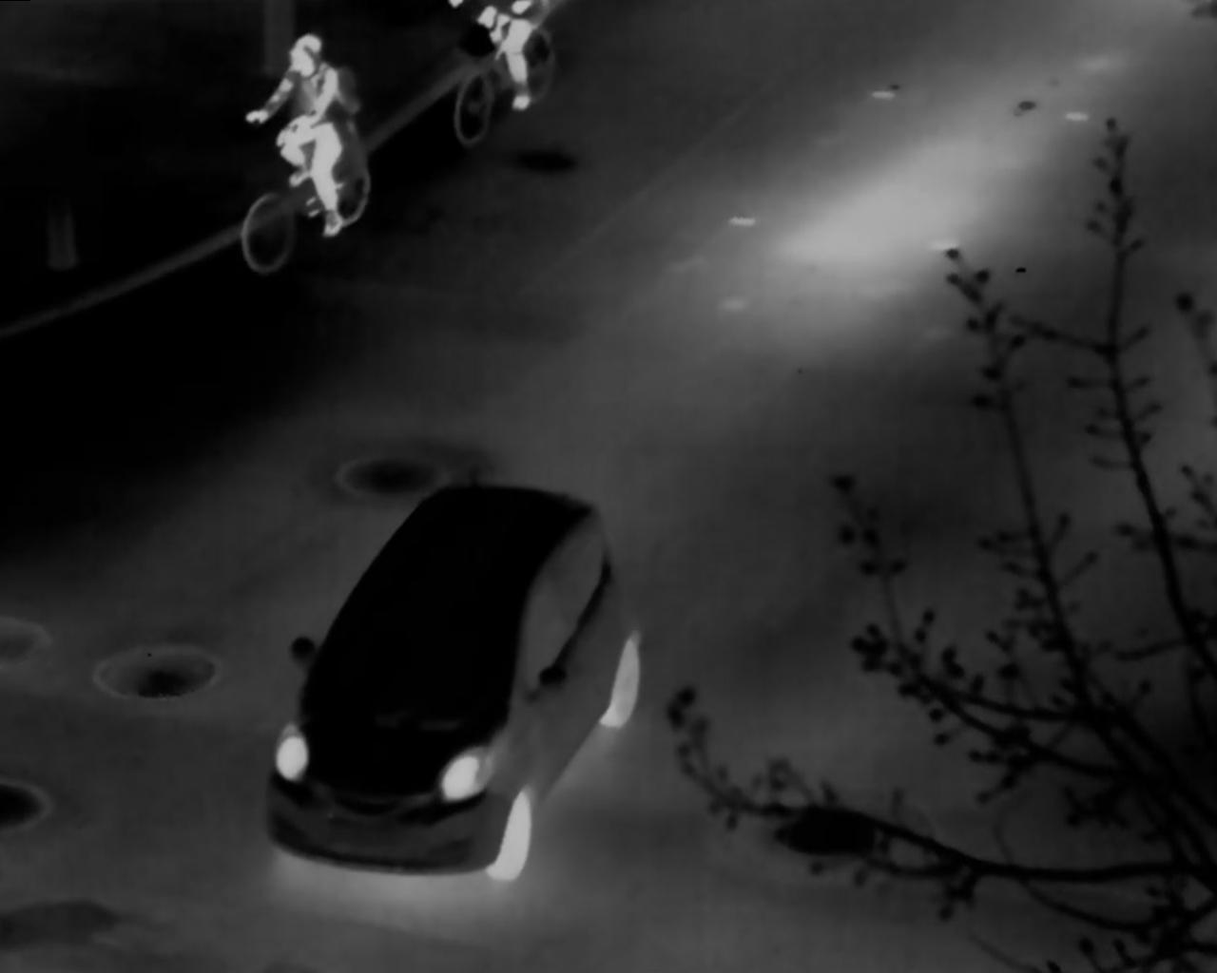person: (245, 33, 359, 238)
